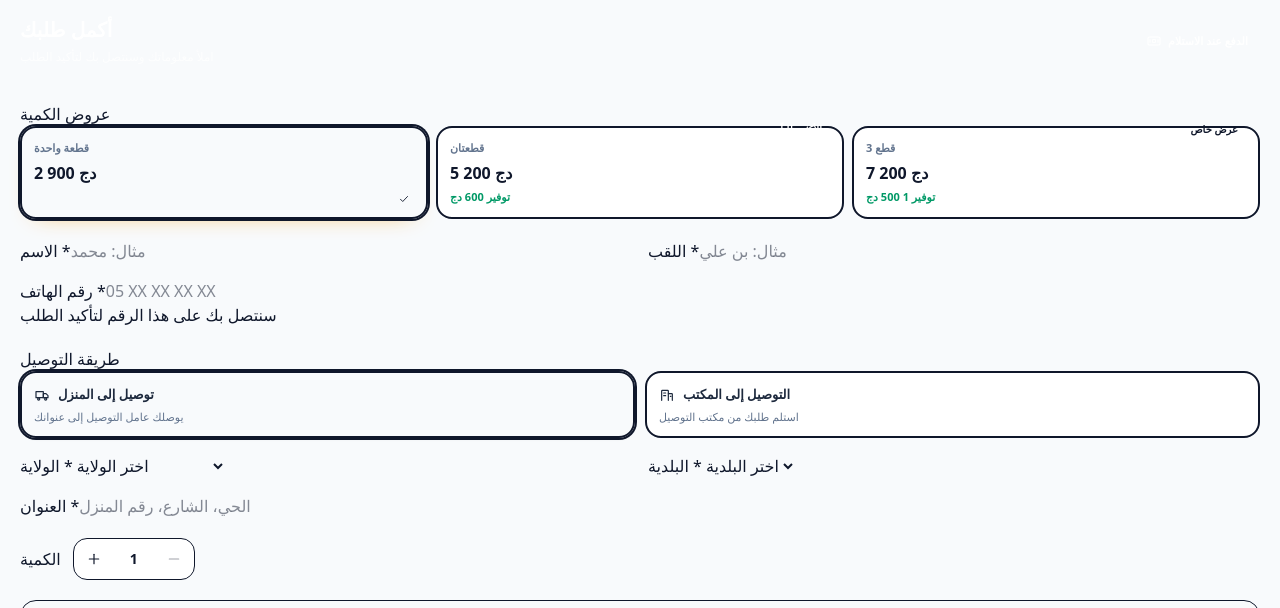
Test: SOUQ — COD form interactions › recalculates the delivery fee live for the selected wilaya (home then office)
The width and height of the screenshot is (1280, 608).
Select "16 - الجزائر" in the dropdown labelled "الولاية *". click: (149, 466)
box: [73, 454, 226, 478]
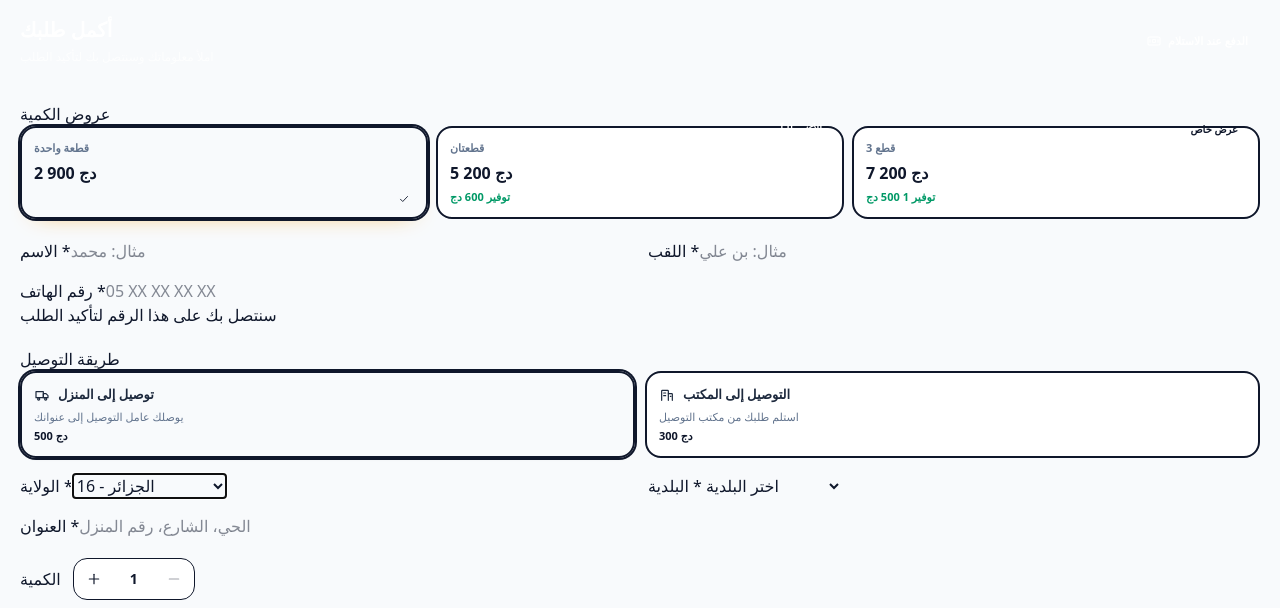
Click the radio button labelled "التوصيل إلى المكتب استلم طلبك من مكتب التوصيل 300 دج". click: click(737, 394)
box: [645, 371, 1260, 458]
(page scrolled)
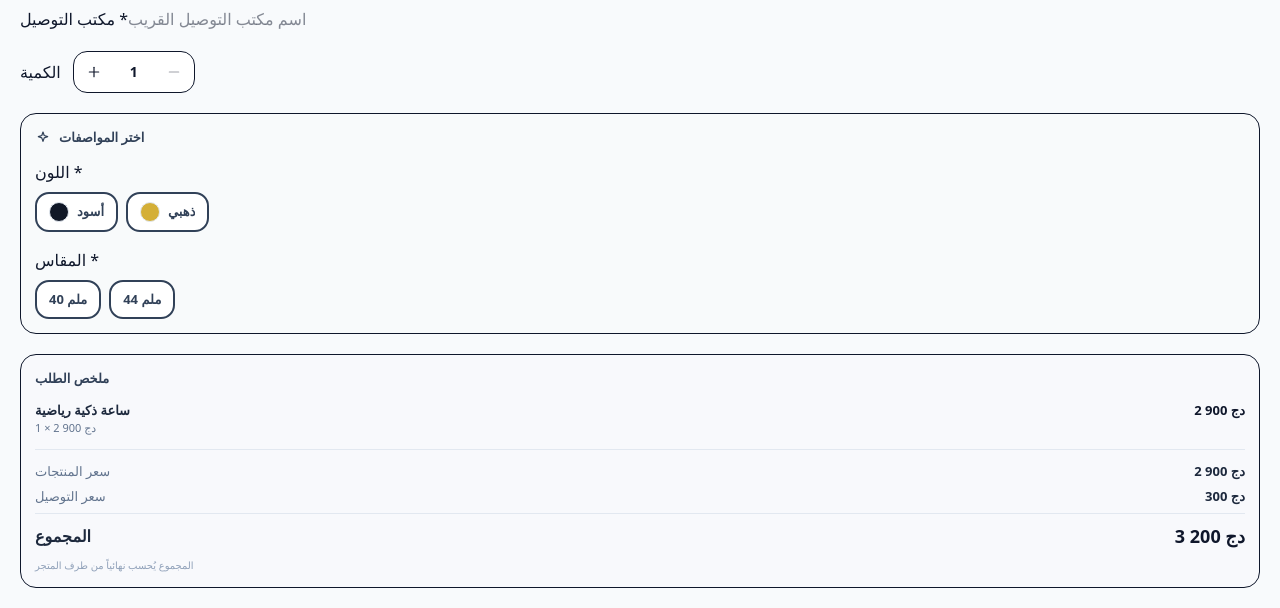
Check: the element showing "سعر المنتجات 2 900 دج سعر التوصيل 300 دج المجموع 3 200 دج" is shown, box [35, 449, 1245, 550]
